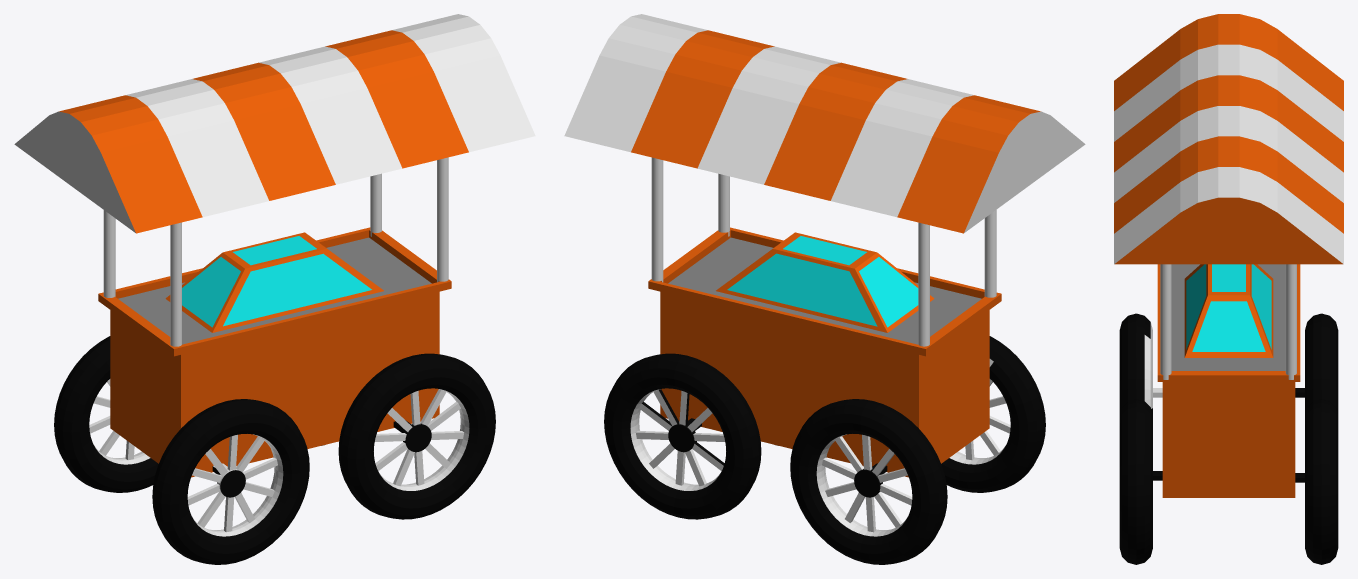
The model's file is IceCreamCart.fbx.
The picture shows the model from 3 angles, left to right: view 1: azimuth 30°, elevation 25°; view 2: azimuth 150°, elevation 25°; view 3: azimuth 270°, elevation 25°; orthographic projection. The views are drawn at different scales.
Parts seen in each view (by area): view 1: Cube; view 2: Cube; view 3: Cube.
Part boxes in pixels (x1,y1,x2,y2): Cube: (14,14,535,564); Cube: (564,14,1085,564); Cube: (1114,14,1343,564).
Size of the model in its own units: 478 by 496 by 253.
